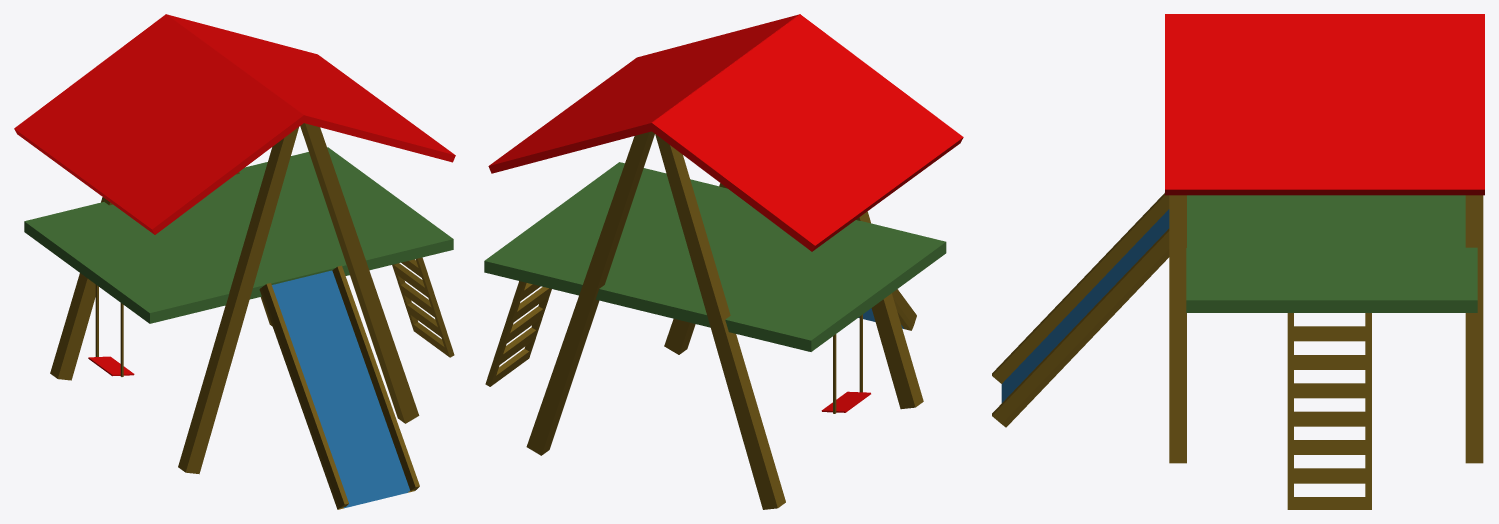
The model's file is parquinho.FBX.
3 views of the same model, side by side, from view 1: azimuth 30°, elevation 25°; view 2: azimuth 150°, elevation 25°; view 3: azimuth 270°, elevation 25° (orthographic). The views are drawn at different scales.
Parts seen in each view (by area): view 1: Praça_Parquinho; view 2: Praça_Parquinho; view 3: Praça_Parquinho.
Part boxes in pixels (box(x1,y1,x2,y2)): Praça_Parquinho: box(14, 14, 455, 509); Praça_Parquinho: box(484, 14, 963, 509); Praça_Parquinho: box(992, 14, 1484, 509).
Bounding box in the file's own units: 3.45 × 3.57 × 3.12.
